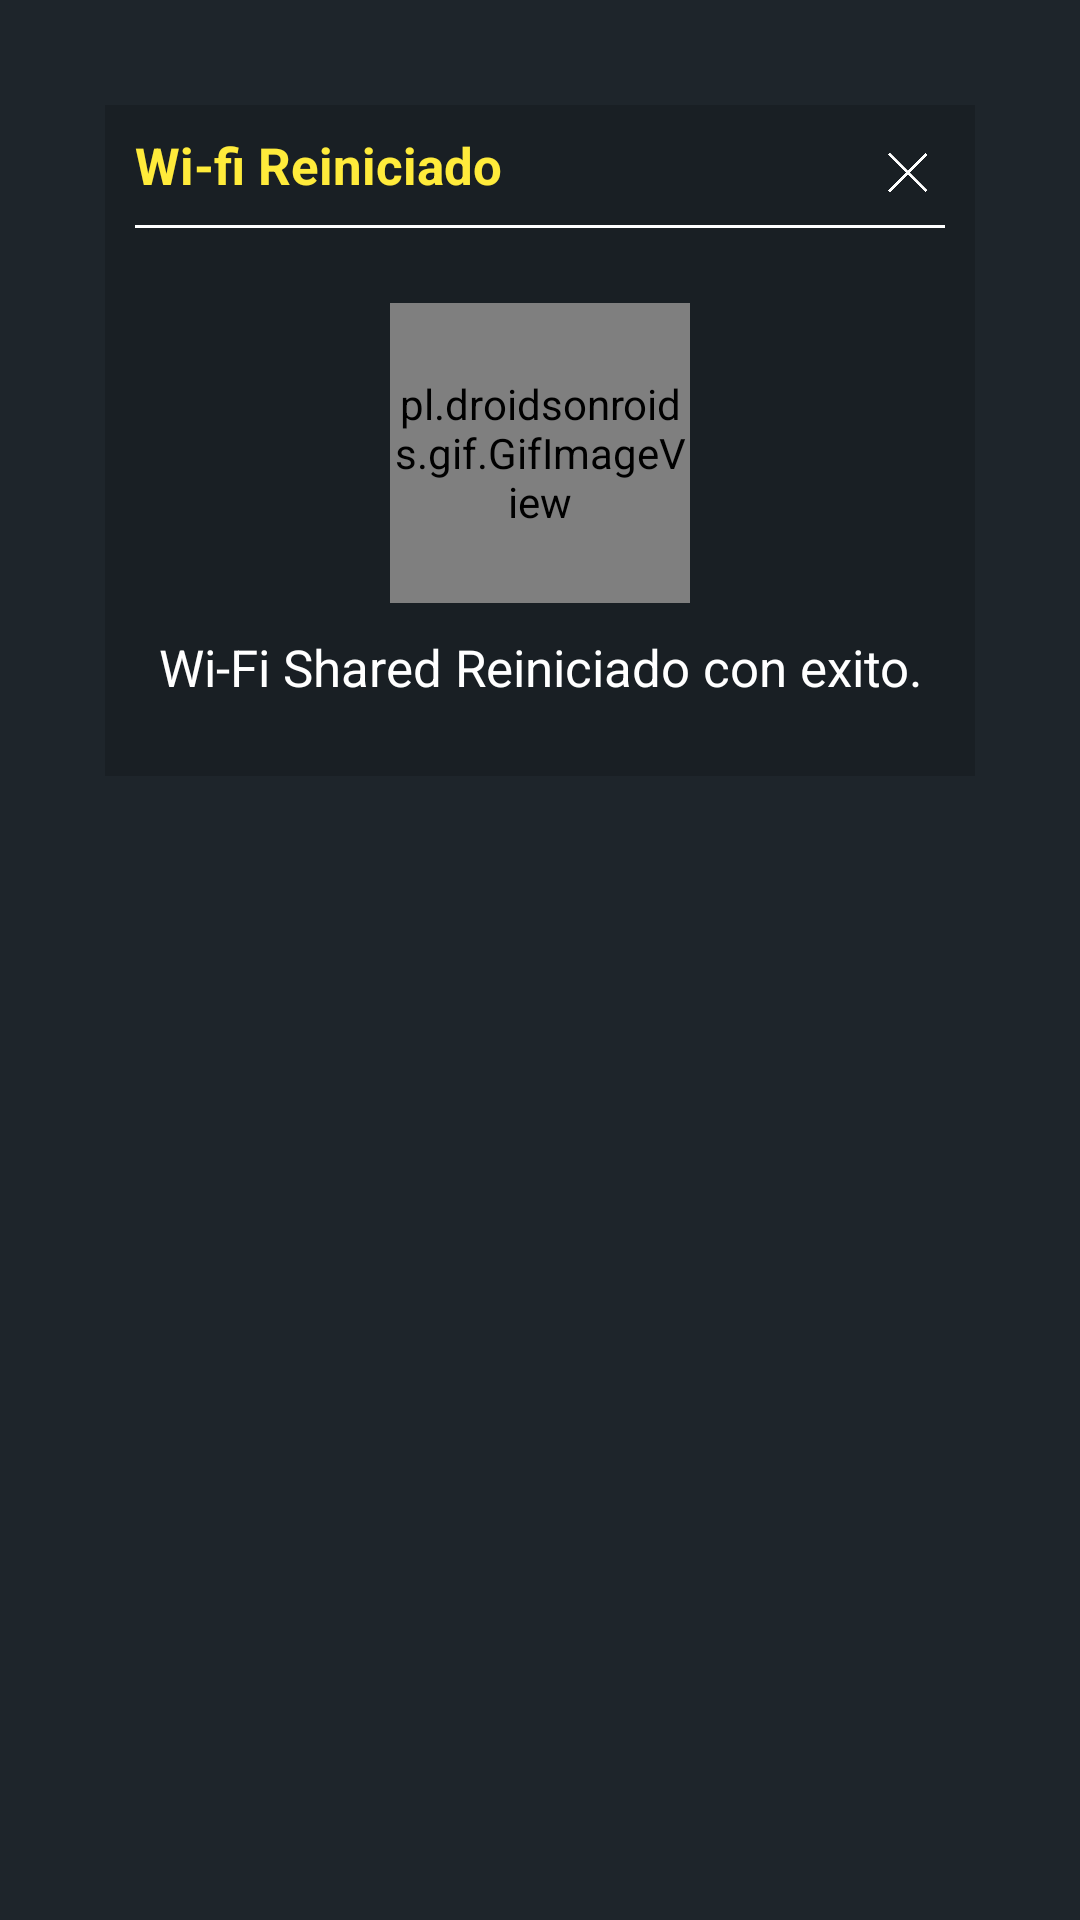

Icons on this 1080 × 1920 Android screen, each with its box as {"x1": x1, "y1": y1, "x2": x2, "y2": y2}:
salir: {"x1": 888, "y1": 153, "x2": 927, "y2": 192}
